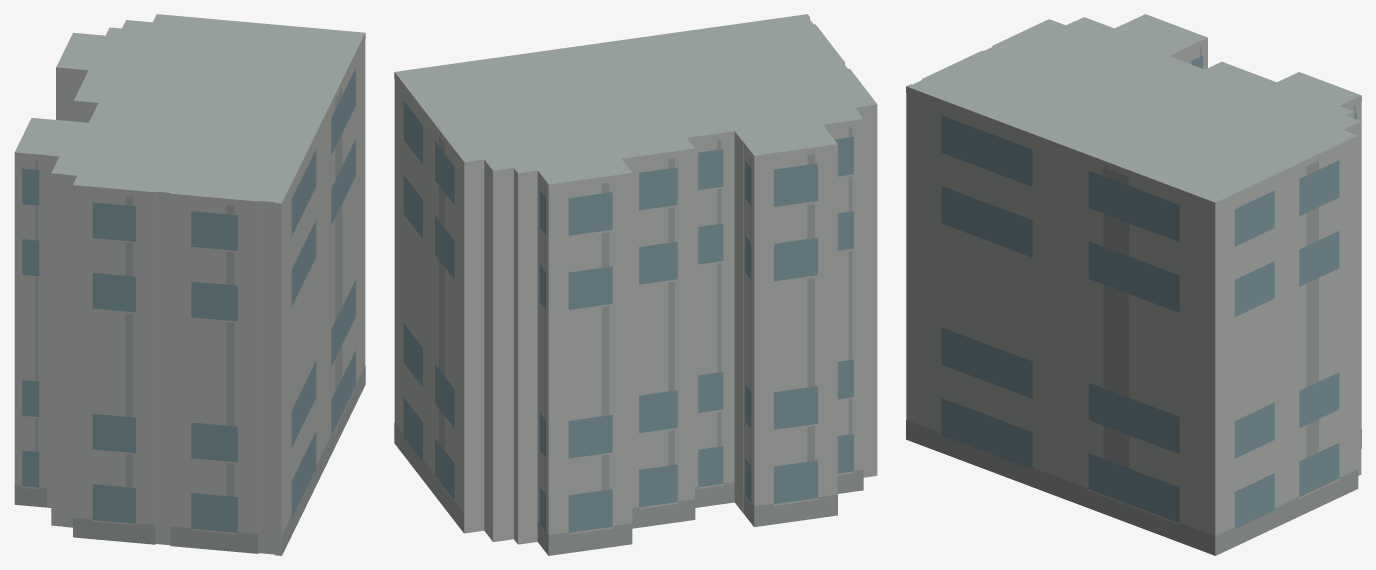
The model's file is survey-upis-33016574.glb.
3 views of the same model, side by side, from view 1: azimuth 30°, elevation 25°; view 2: azimuth 150°, elevation 25°; view 3: azimuth 270°, elevation 25° (orthographic). The views are drawn at different scales.
Parts seen in each view (by area): view 1: survey-upis-33016574.tmp; view 2: survey-upis-33016574.tmp; view 3: survey-upis-33016574.tmp.
Boxes of the visible parts, x1,y1,x2,y2 form: survey-upis-33016574.tmp: [14, 14, 365, 555]; survey-upis-33016574.tmp: [394, 14, 877, 555]; survey-upis-33016574.tmp: [906, 14, 1361, 555].
Size of the model in its own units: 15.28 by 13.33 by 15.59.
